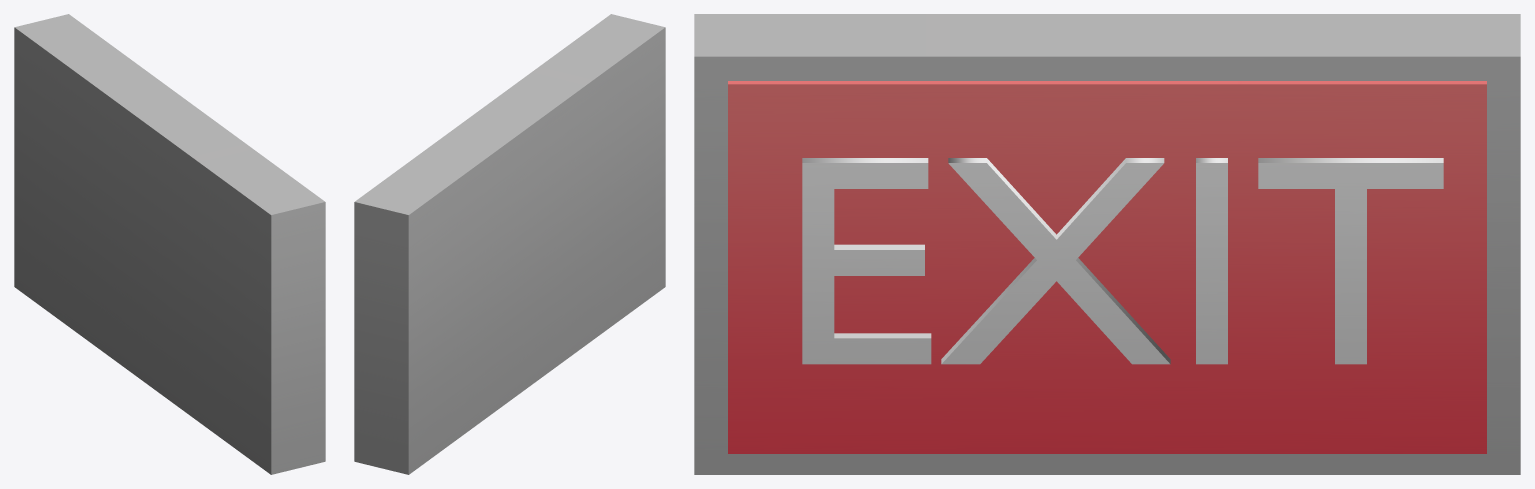
File: CartelExit.fbx
3 views of the same model, side by side, from view 1: azimuth 30°, elevation 25°; view 2: azimuth 150°, elevation 25°; view 3: azimuth 270°, elevation 25° (orthographic). The views are drawn at different scales.
Parts seen in each view (by area): view 1: Marco; view 2: Marco; view 3: Fondo rojo, Marco, Texto.
Boxes of the visible parts, x1=… form: Marco: x1=14, y1=14, x2=325, y2=474; Marco: x1=354, y1=14, x2=665, y2=474; Fondo rojo: x1=728, y1=81, x2=1486, y2=453; Marco: x1=694, y1=14, x2=1520, y2=474; Texto: x1=802, y1=158, x2=1443, y2=364.
Size of the model in its own units: 9.42 by 35.96 by 64.4.
